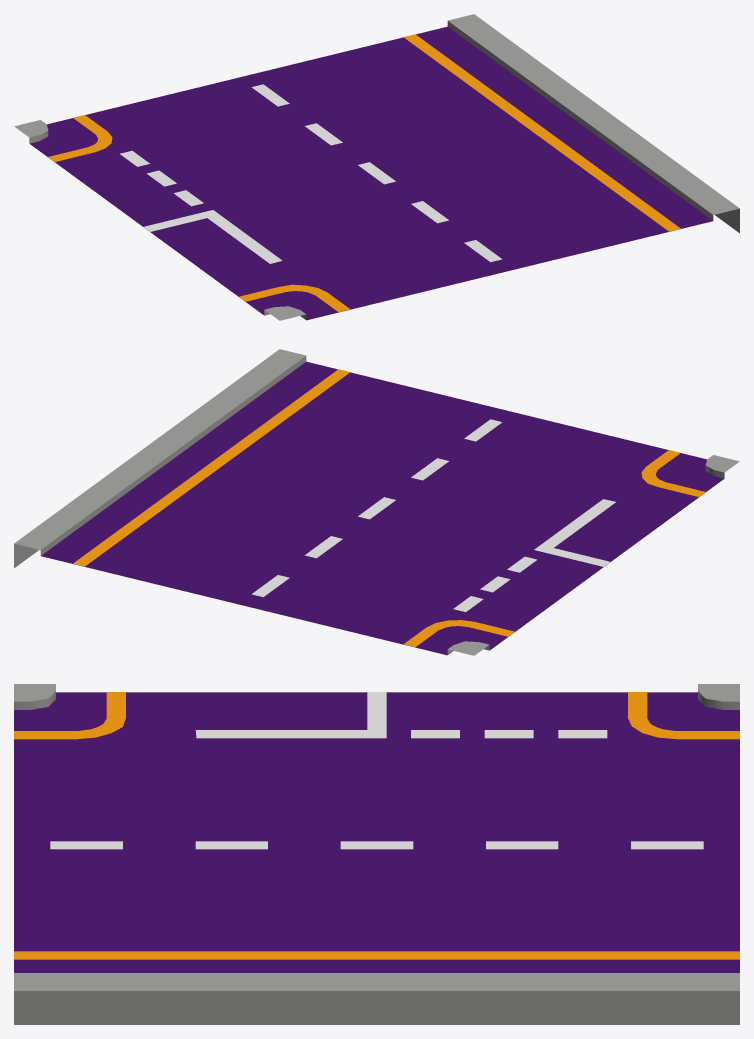
The model's file is Road_C_6.fbx.
The picture shows the model from 3 angles, top to bottom: view 1: azimuth 30°, elevation 25°; view 2: azimuth 150°, elevation 25°; view 3: azimuth 270°, elevation 25°; orthographic projection. The views are drawn at different scales.
Parts seen in each view (by area): view 1: Road_C_6; view 2: Road_C_6; view 3: Road_C_6.
Boxes of the visible parts, x1,y1,x2,y2 form: Road_C_6: [14, 14, 739, 320]; Road_C_6: [14, 349, 739, 655]; Road_C_6: [14, 684, 739, 1024].
Bounding box in the file's own units: 800 × 41.48 × 800.
